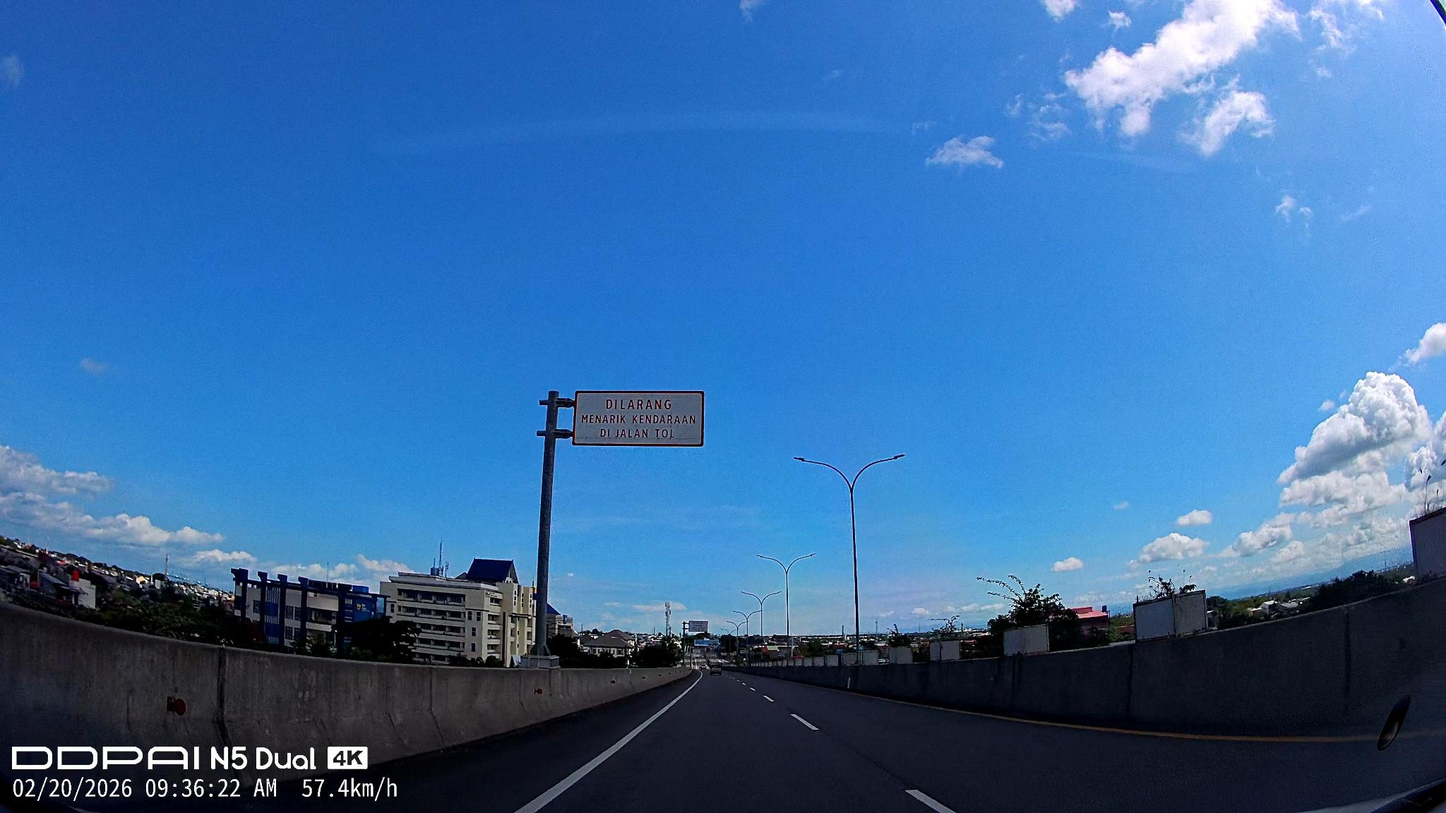rambu_teks: (572, 389, 705, 448)
